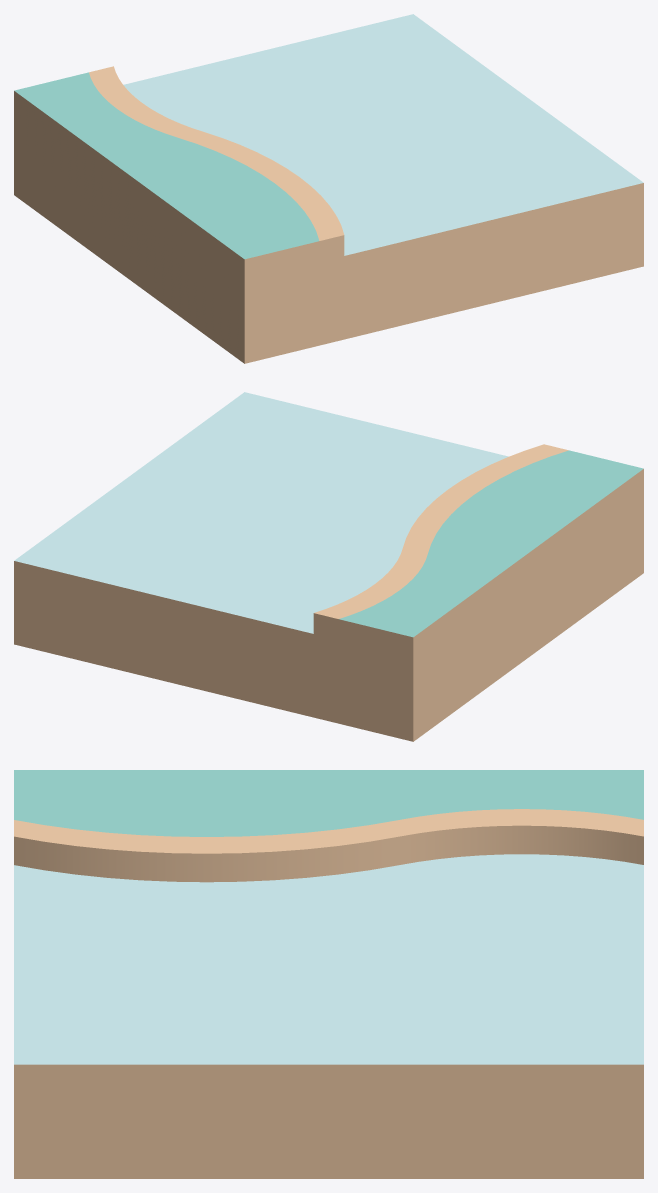
File: ground_dirtRiverSide.glb
3 views of the same model, one above another, from view 1: azimuth 30°, elevation 25°; view 2: azimuth 150°, elevation 25°; view 3: azimuth 270°, elevation 25° (orthographic). The views are drawn at different scales.
Visible parts, largest first — view 1: ground_dirtRiverSide; view 2: ground_dirtRiverSide; view 3: ground_dirtRiverSide.
Part boxes in pixels (x1=…): ground_dirtRiverSide: x1=14, y1=14, x2=643, y2=363; ground_dirtRiverSide: x1=14, y1=392, x2=643, y2=741; ground_dirtRiverSide: x1=14, y1=770, x2=643, y2=1178.
Size of the model in its own units: 1 by 0.25 by 1.
